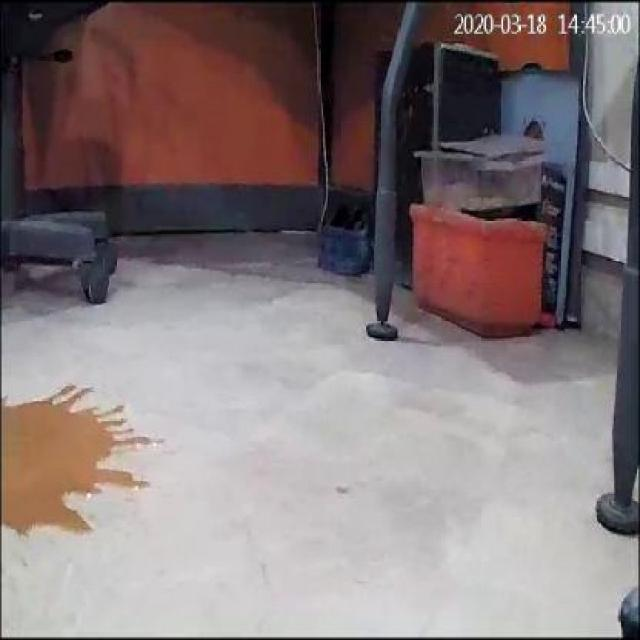spill: (3, 382, 163, 542)
